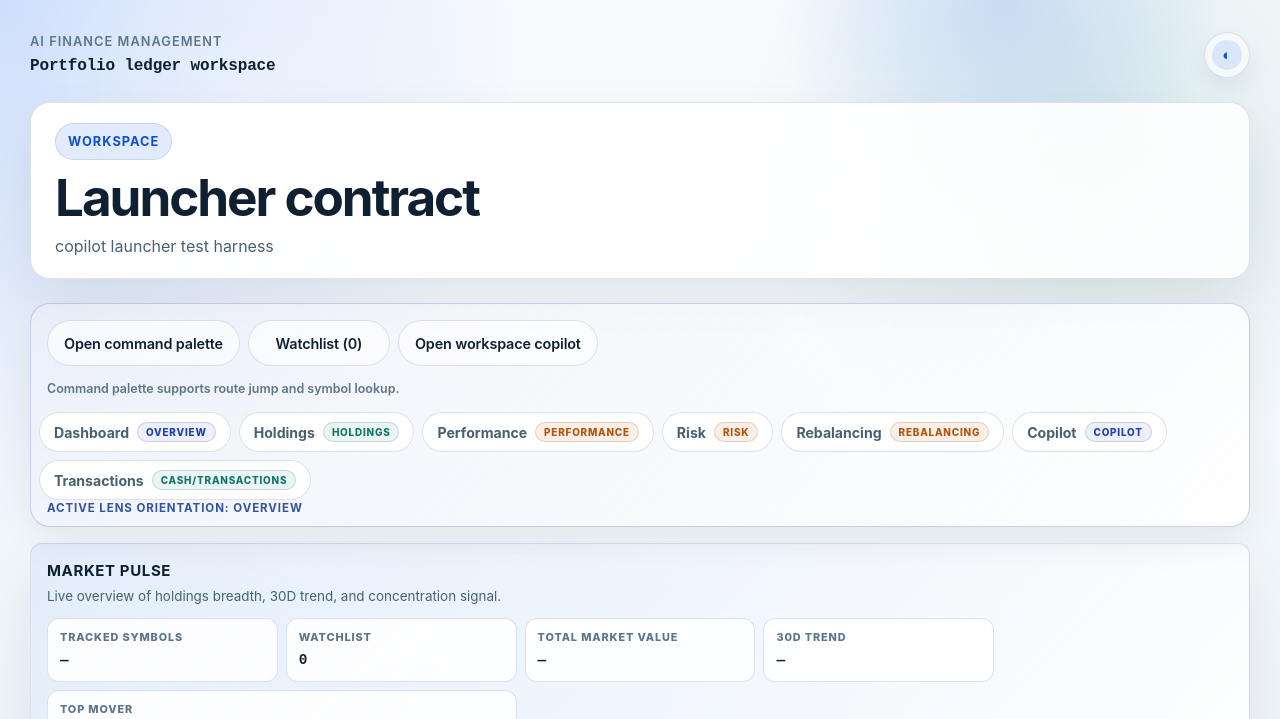
Test case: workspace copilot launcher fail-first contract › 4.1 preserves answer continuity across collapse and re-expand on desktop
The width and height of the screenshot is (1280, 719).
Click the button "Open workspace copilot" at (498, 343), box [398,320,598,366]
(page scrolled)
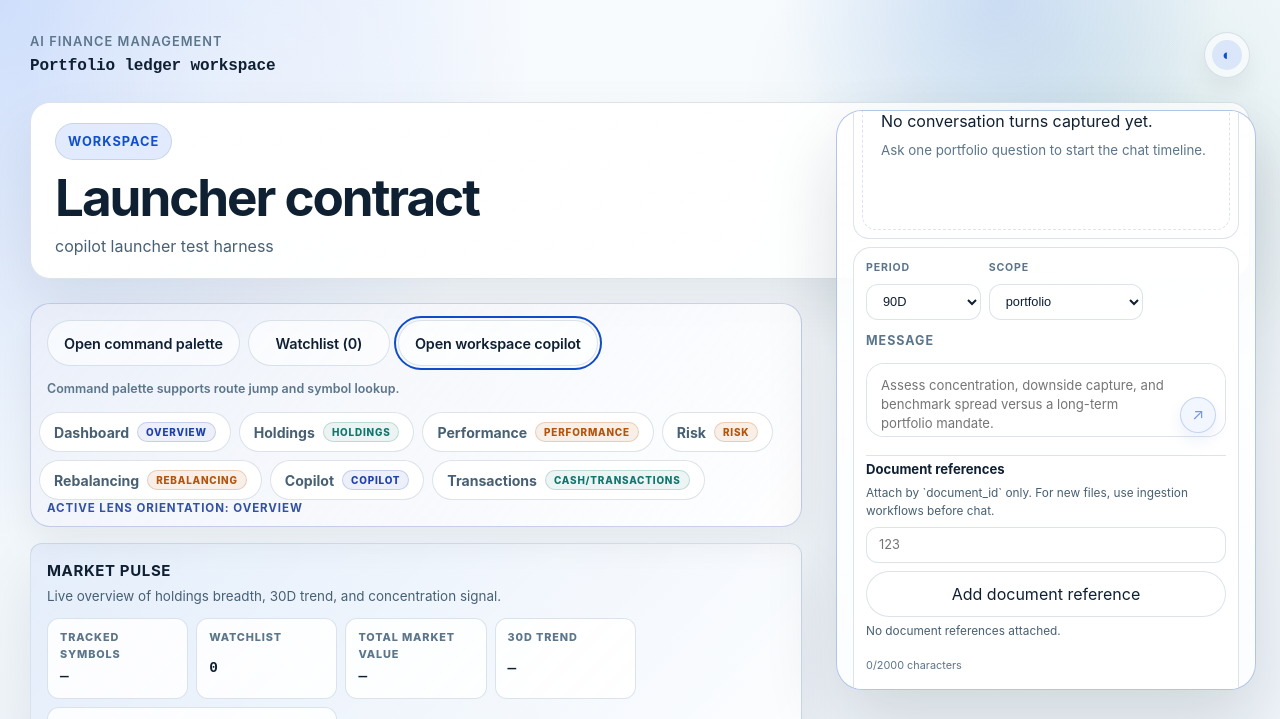
Type "Summarize risk posture." into the text box named "Copilot user message" at (1046, 400), box [866,363,1226,437]
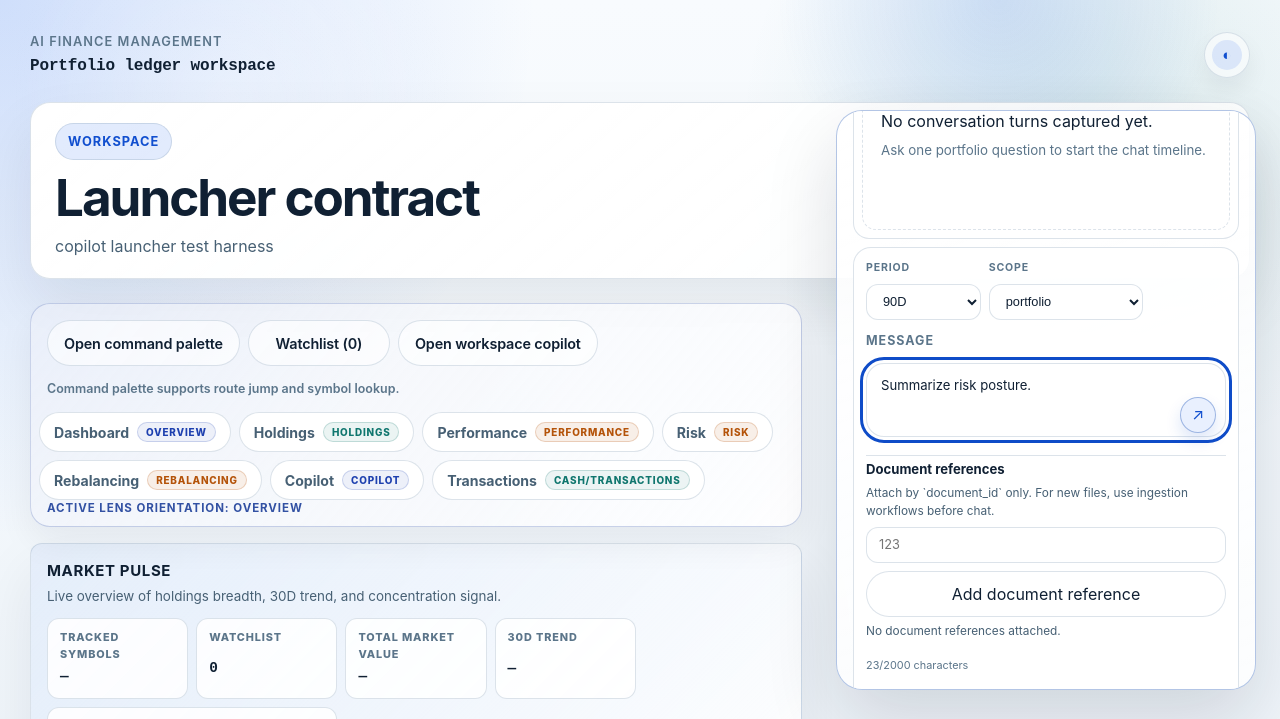
Click the button named "Submit request" at (1198, 415), box [1180,397,1216,433]
(page scrolled)
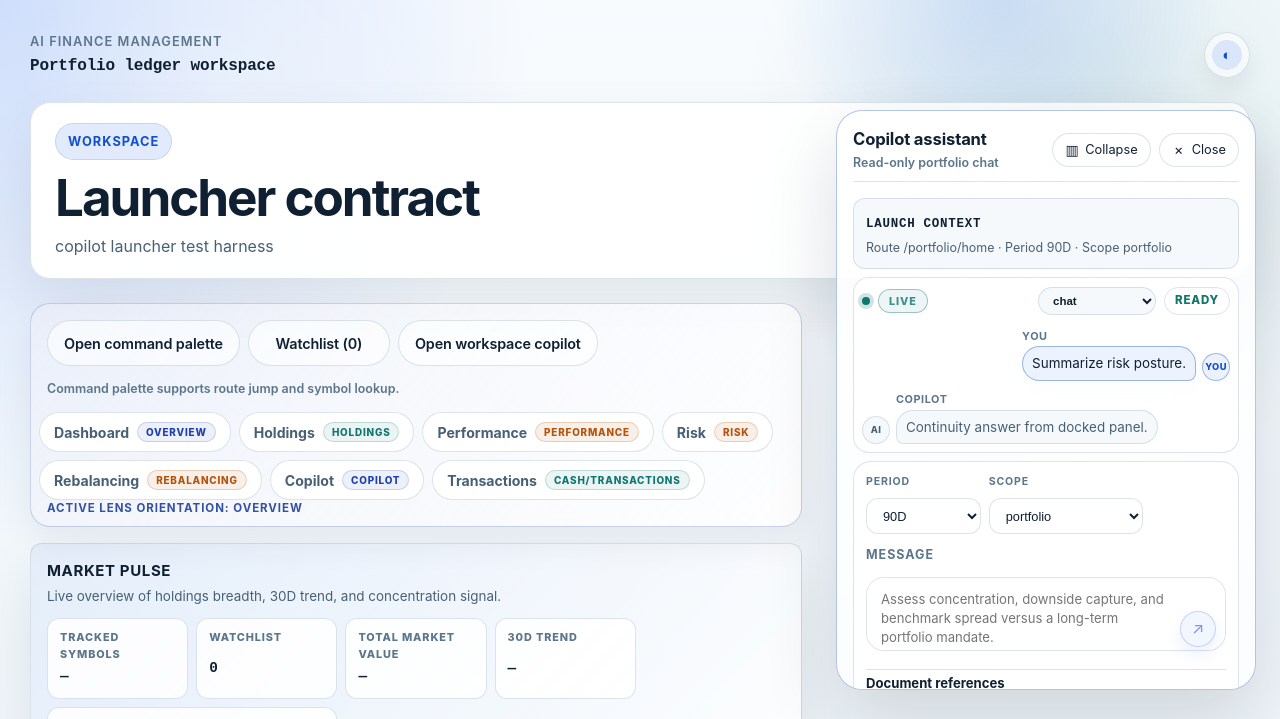
Expected: the text "Continuity answer from docked panel." is shown, [906,418,1148,436]
Click the button with aria-label "Collapse copilot panel" at (1101, 150), box [1052,133,1151,167]
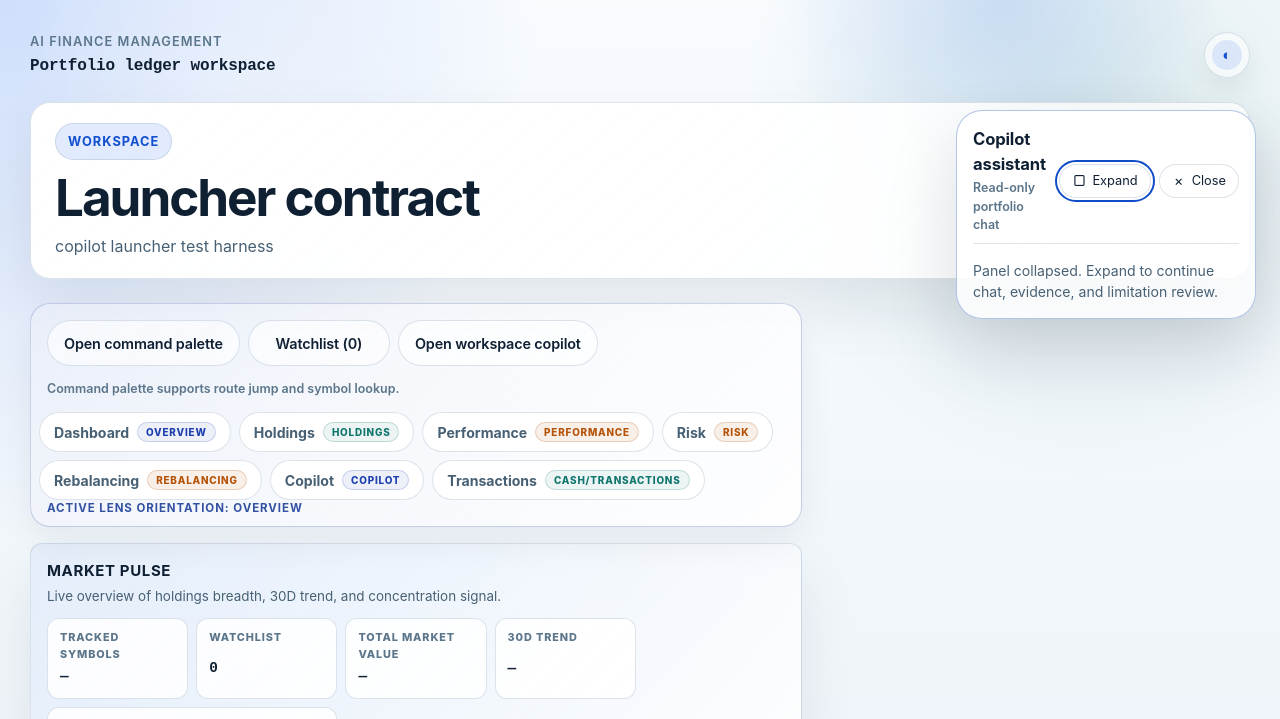
Click the button with aria-label "Expand copilot panel" at (1105, 181), box [1059,164,1151,198]
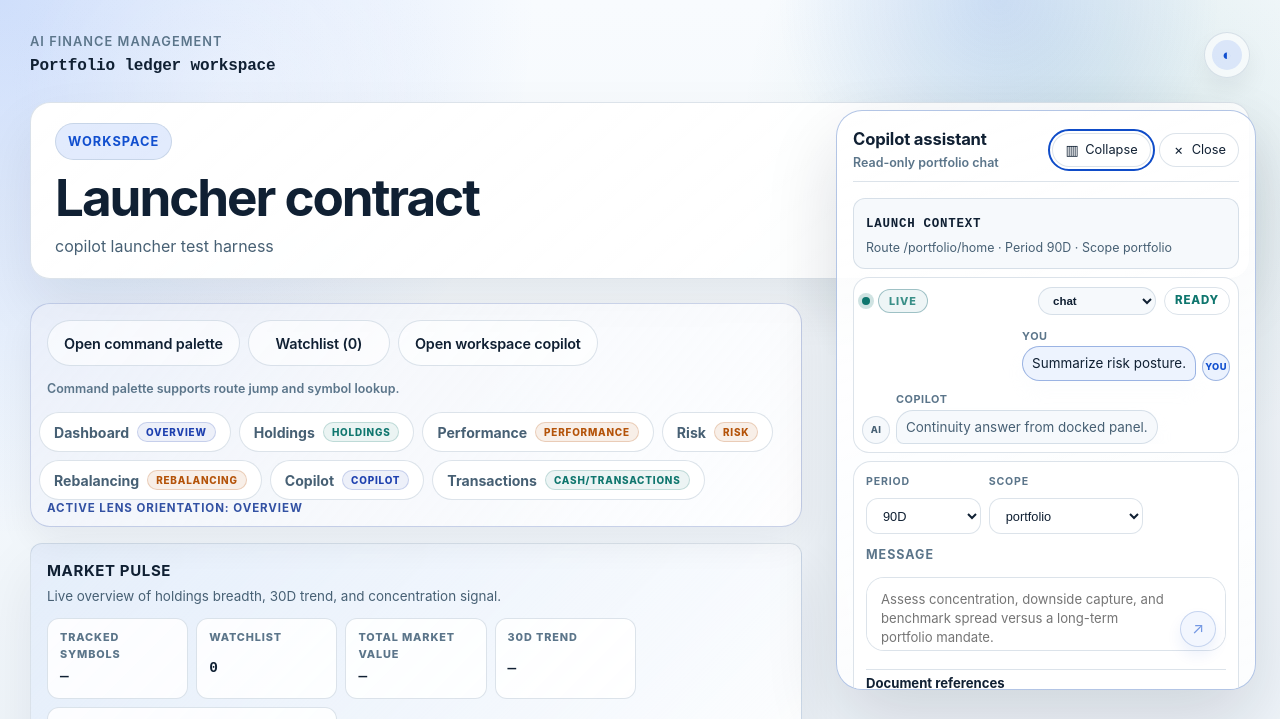
Expected: the text "Continuity answer from docked panel." is shown, [906,418,1148,436]
